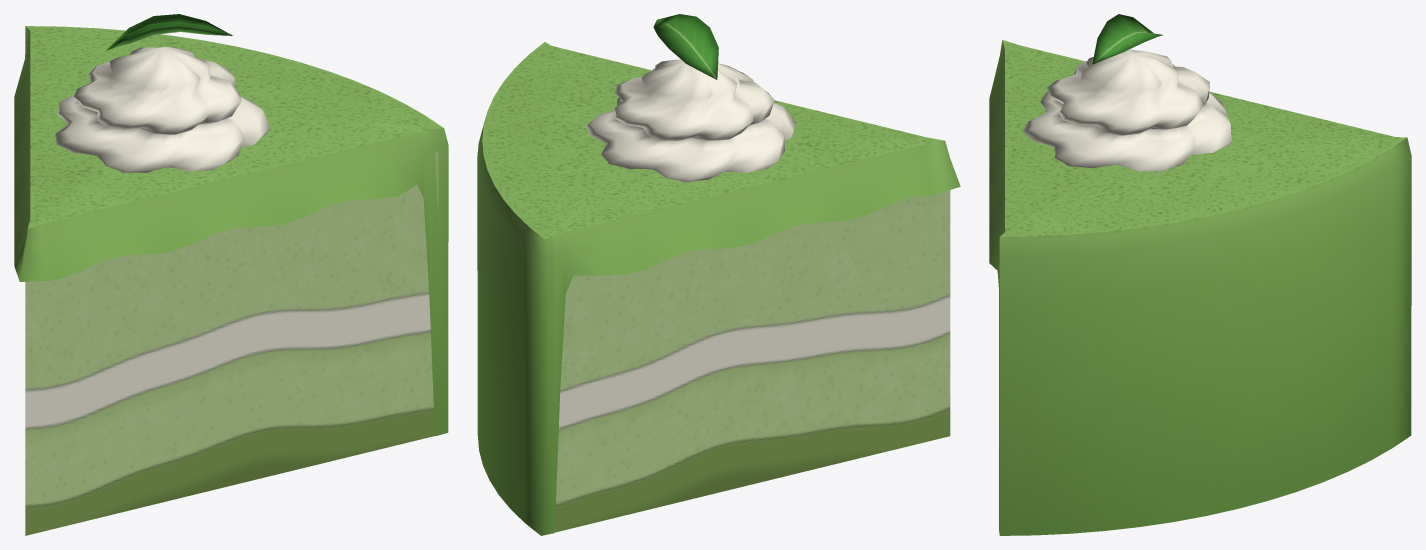
The model's file is matcha_slice.glb.
3 views of the same model, side by side, from view 1: azimuth 30°, elevation 25°; view 2: azimuth 150°, elevation 25°; view 3: azimuth 270°, elevation 25° (orthographic). The views are drawn at different scales.
Visible parts, largest first — view 1: MatchaSlice; view 2: MatchaSlice; view 3: MatchaSlice.
Part boxes in pixels (left/top/right/bottom): MatchaSlice: left=14, top=14, right=448, bottom=535; MatchaSlice: left=477, top=14, right=960, bottom=535; MatchaSlice: left=989, top=14, right=1411, bottom=535.
Size of the model in its own units: 1.04 by 0.979 by 0.9096.
Materials: 1 (1 with a texture image).
